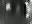person: (26, 1, 32, 20), (16, 6, 22, 17), (7, 4, 12, 16)
